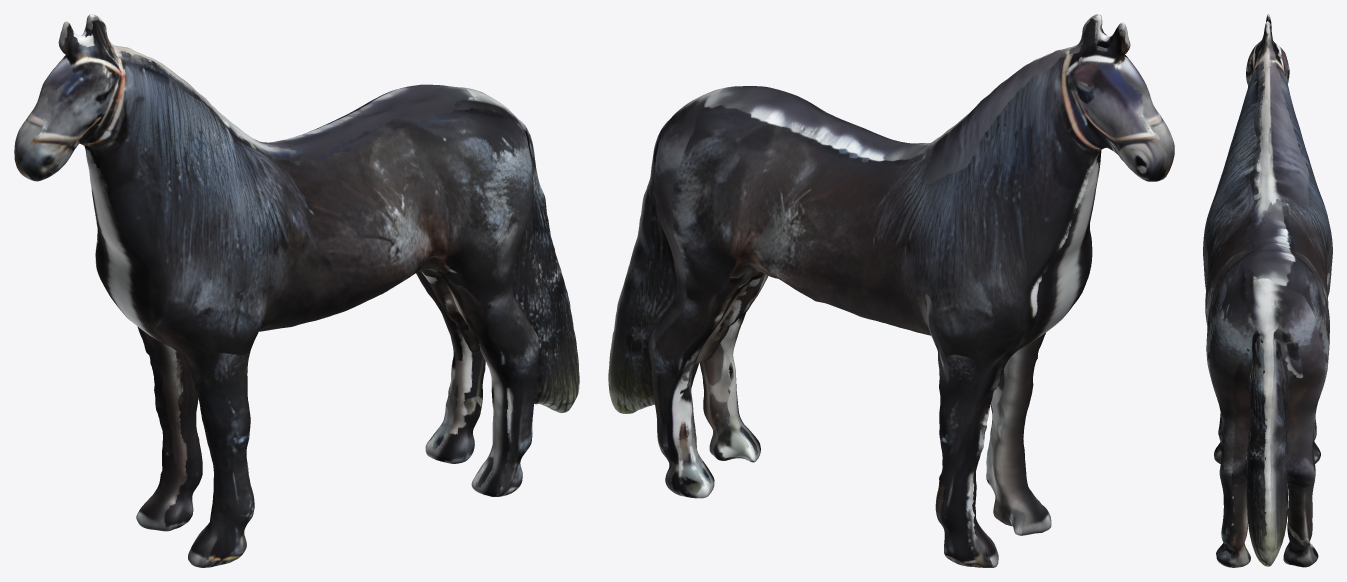
Rendered from joven.glb.
3 views of the same model, side by side, from view 1: azimuth 30°, elevation 25°; view 2: azimuth 150°, elevation 25°; view 3: azimuth 270°, elevation 25° (orthographic). The views are drawn at different scales.
Parts seen in each view (by area): view 1: mesh; view 2: mesh; view 3: mesh.
Boxes of the visible parts, box(x1,y1,x2,y2) form: mesh: box(14, 14, 579, 567); mesh: box(608, 14, 1174, 567); mesh: box(1203, 14, 1332, 567).
Bounding box in the file's own units: 1.59 × 1.5 × 0.4361.
1 material, 1 textured.
